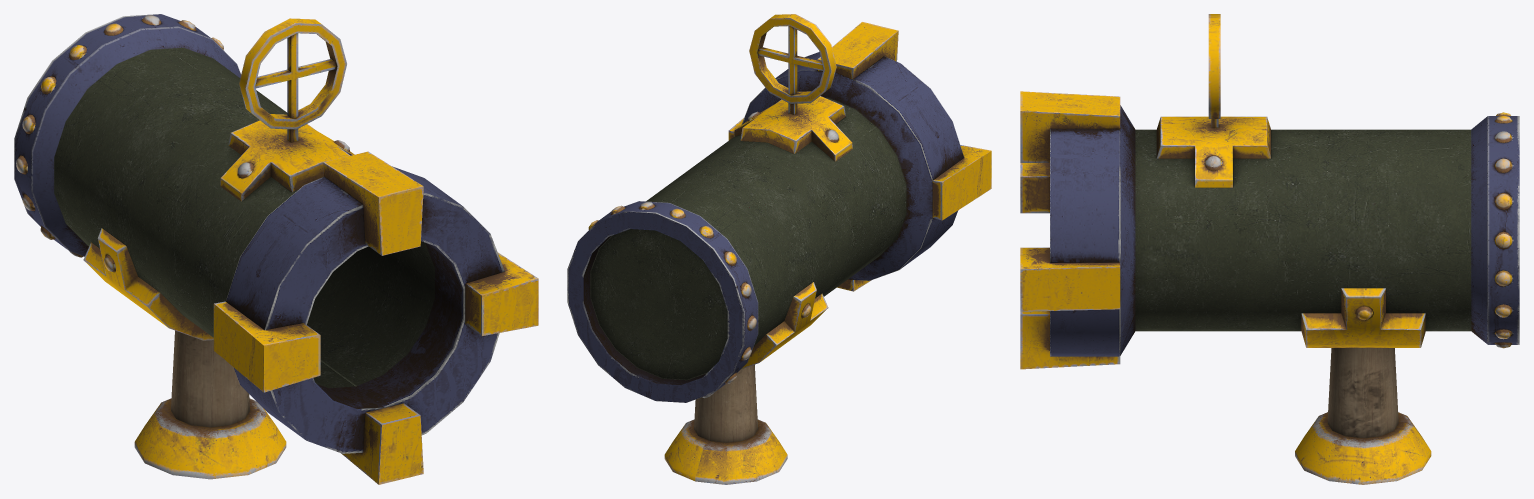
The model's file is bazuka.fbx.
The picture shows the model from 3 angles, left to right: view 1: azimuth 30°, elevation 25°; view 2: azimuth 150°, elevation 25°; view 3: azimuth 270°, elevation 25°; orthographic projection. The views are drawn at different scales.
Parts seen in each view (by area): view 1: Bazuka; view 2: Bazuka; view 3: Bazuka.
Boxes of the visible parts, box(x1,y1,x2,y2) form: Bazuka: box(14, 14, 538, 484); Bazuka: box(567, 14, 991, 484); Bazuka: box(1020, 14, 1519, 484).
Size of the model in its own units: 98.09 by 166 by 172.
Materials: 1 (1 with a texture image).
